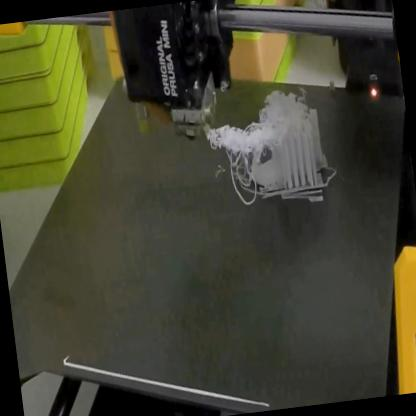fail: (210, 116, 280, 210)
